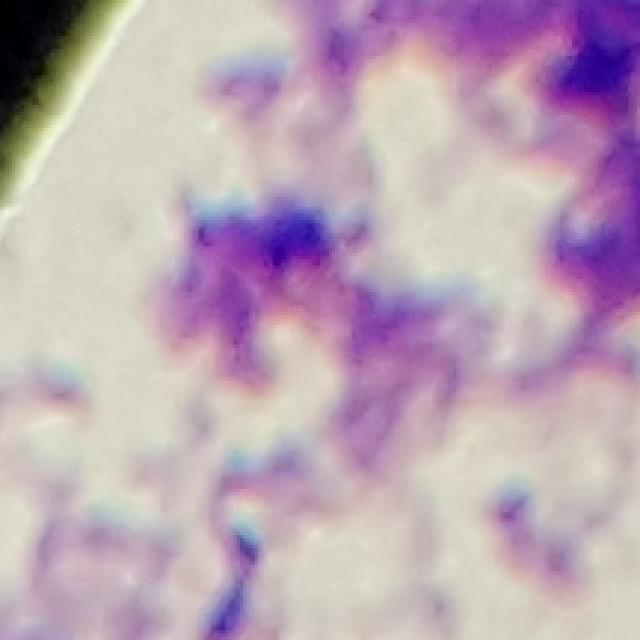non-sperm: (181, 192, 453, 398)
